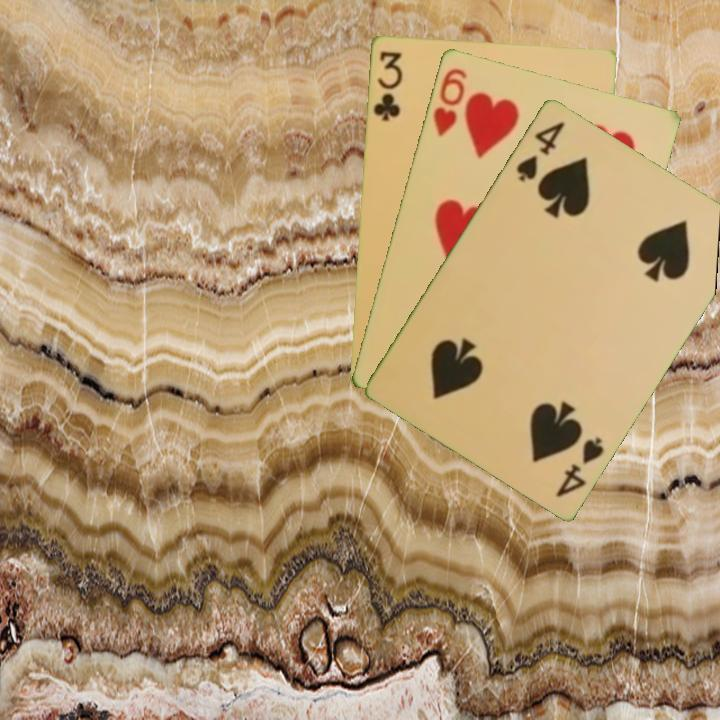3c: (369, 47, 405, 124)
4s: (512, 117, 567, 184), (552, 433, 607, 500)
6h: (429, 64, 470, 139)
